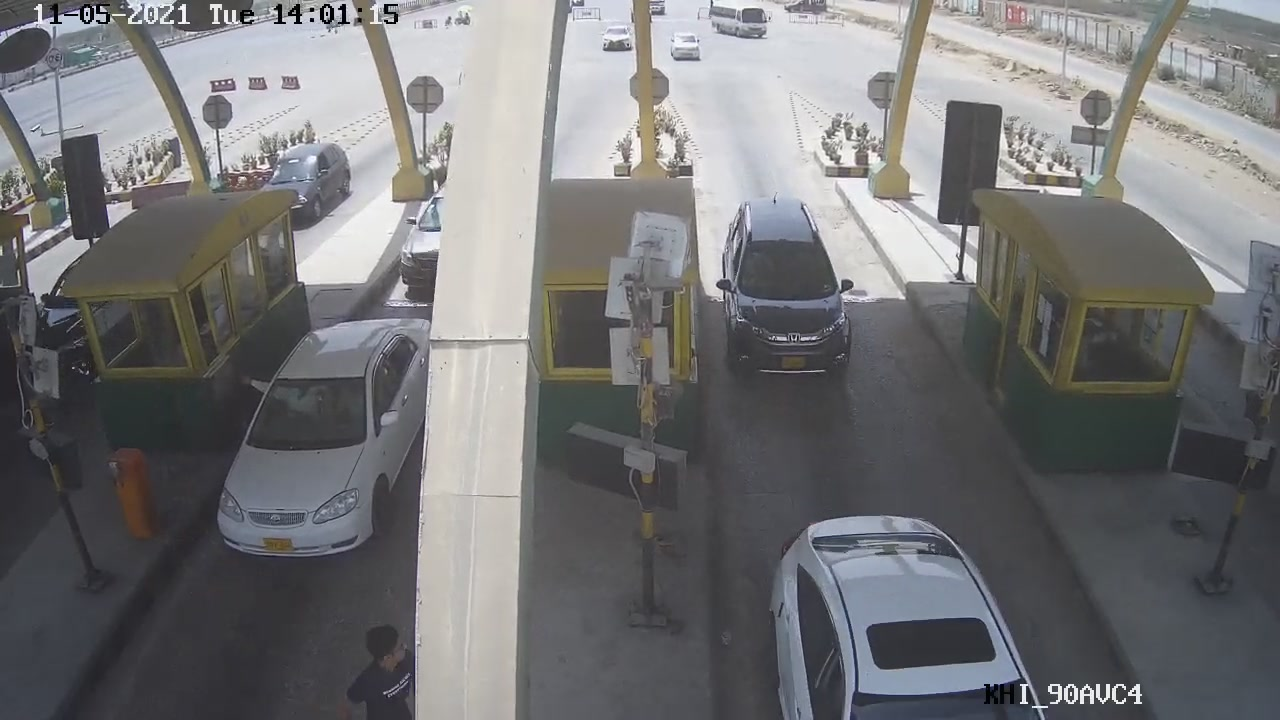F1: (710, 191, 854, 384)
